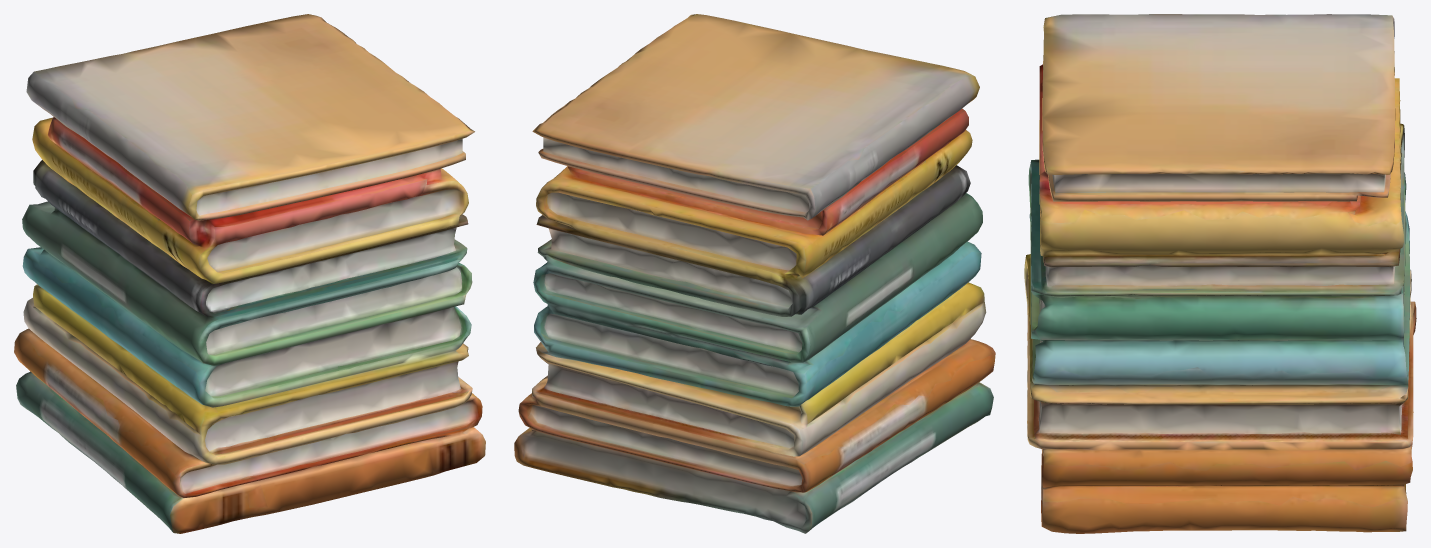
File: 19_book_stack.glb
3 renders of one model, left to right at view 1: azimuth 30°, elevation 25°; view 2: azimuth 150°, elevation 25°; view 3: azimuth 270°, elevation 25°, orthographic. The views are drawn at different scales.
Parts seen in each view (by area): view 1: geometry_0; view 2: geometry_0; view 3: geometry_0.
Part boxes in pixels (x1,y1,x2,y2): geometry_0: (14,14,485,533); geometry_0: (514,14,995,533); geometry_0: (1024,14,1416,533).
Size of the model in its own units: 1.84 by 1.91 by 1.84.
1 material, 1 textured.
